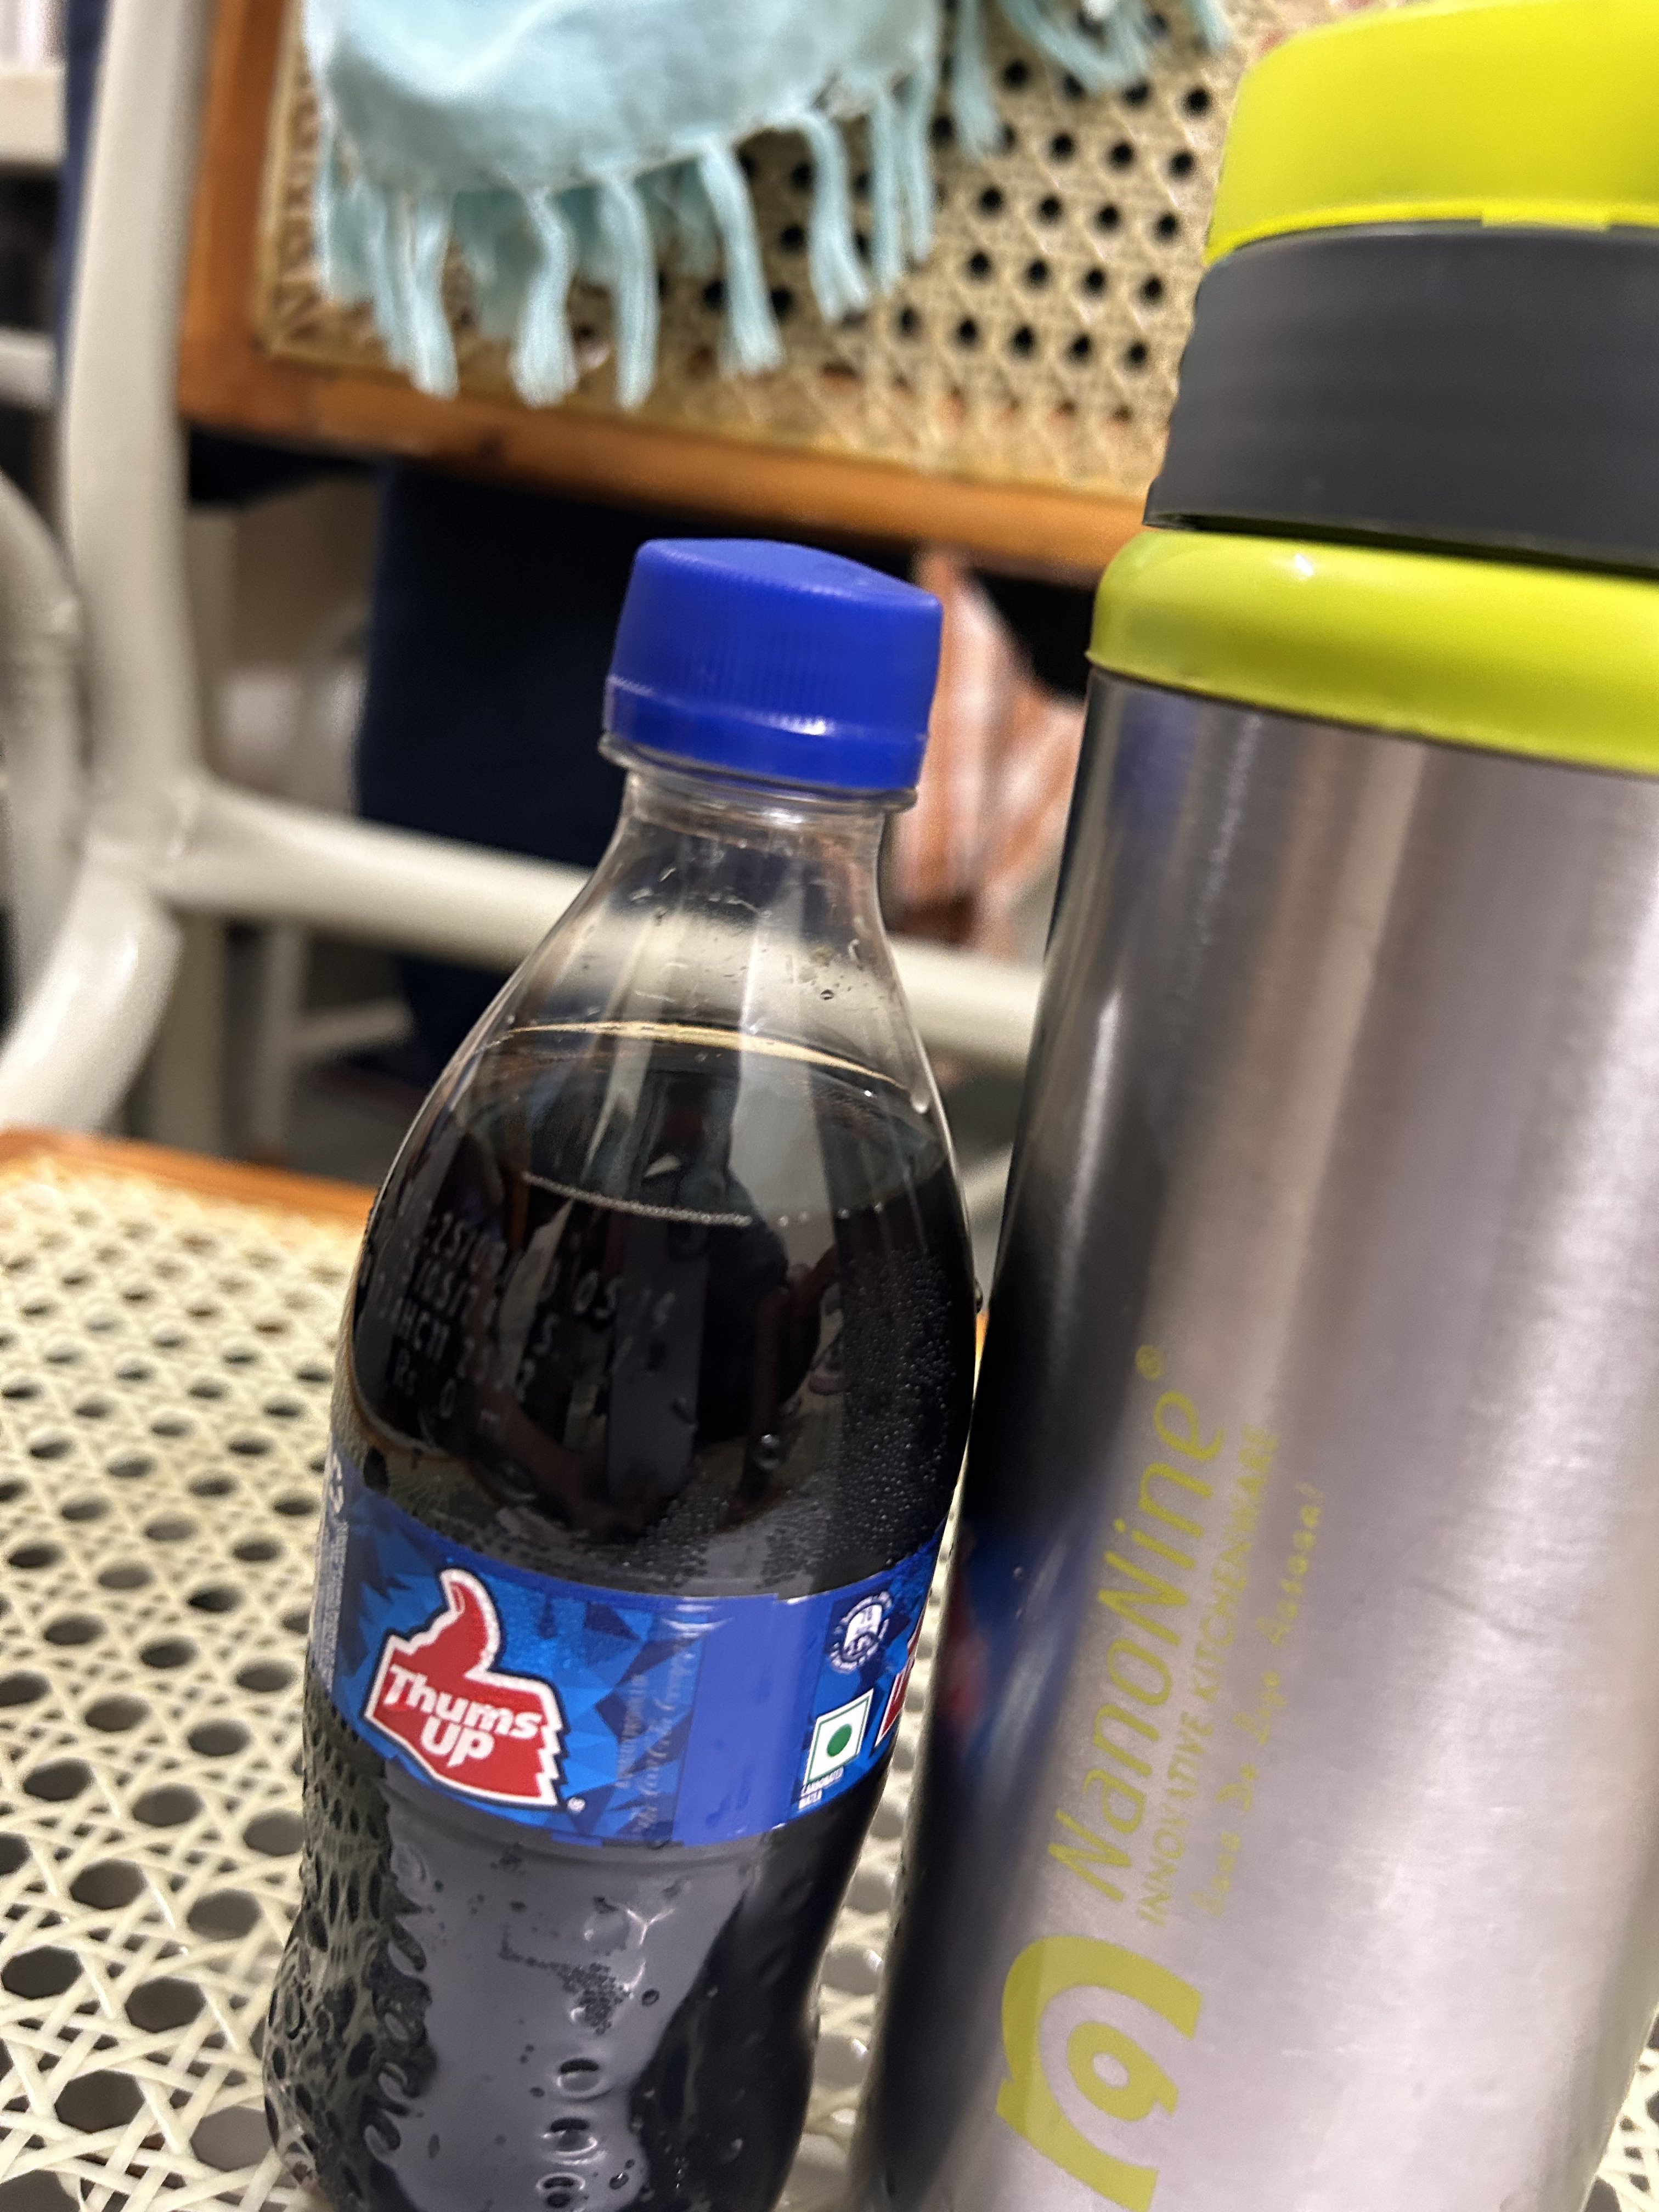sealstable: (586, 488, 955, 986)
